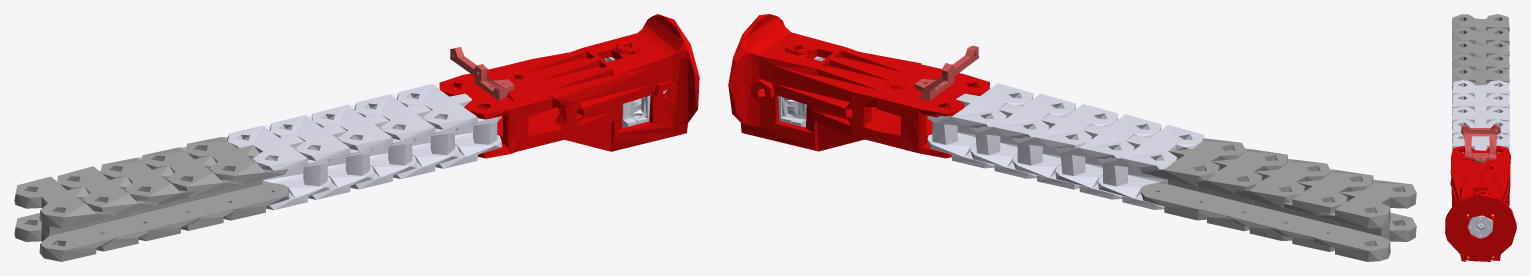
The model's file is amoeba_arm_out.dae.
The picture shows the model from 3 angles, left to right: view 1: azimuth 30°, elevation 25°; view 2: azimuth 150°, elevation 25°; view 3: azimuth 270°, elevation 25°; orthographic projection. The views are drawn at different scales.
Parts seen in each view (by area): view 1: Shape_IndexedFaceSet.005; view 2: Shape_IndexedFaceSet.005; view 3: Shape_IndexedFaceSet.005.
Boxes of the visible parts, x1=… form: Shape_IndexedFaceSet.005: x1=14, y1=14, x2=699, y2=261; Shape_IndexedFaceSet.005: x1=728, y1=14, x2=1416, y2=261; Shape_IndexedFaceSet.005: x1=1445, y1=14, x2=1516, y2=261.
Bounding box in the file's own units: 0.3029 × 0.0461 × 0.0528.
